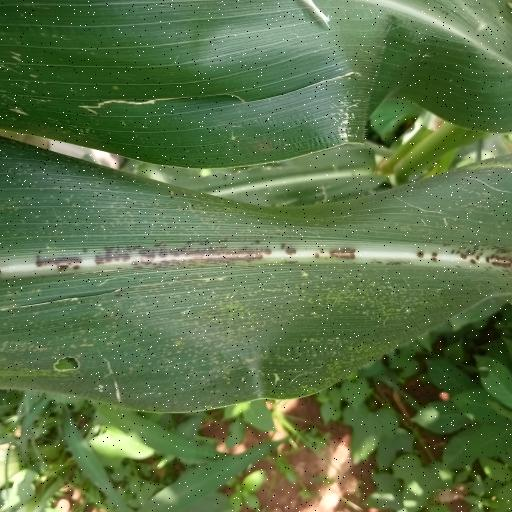Corn_Brown_Spots: (0, 134, 512, 407)
